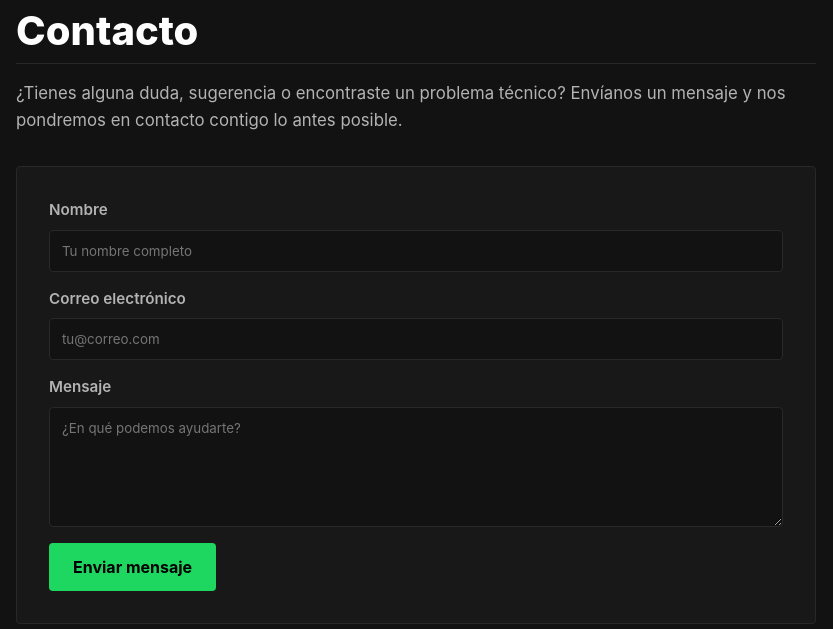
Test case: ContactPage › vacío muestra los errores y no envía nada
Click the button "Enviar mensaje".
click(133, 567)  # box [49,543,216,591]
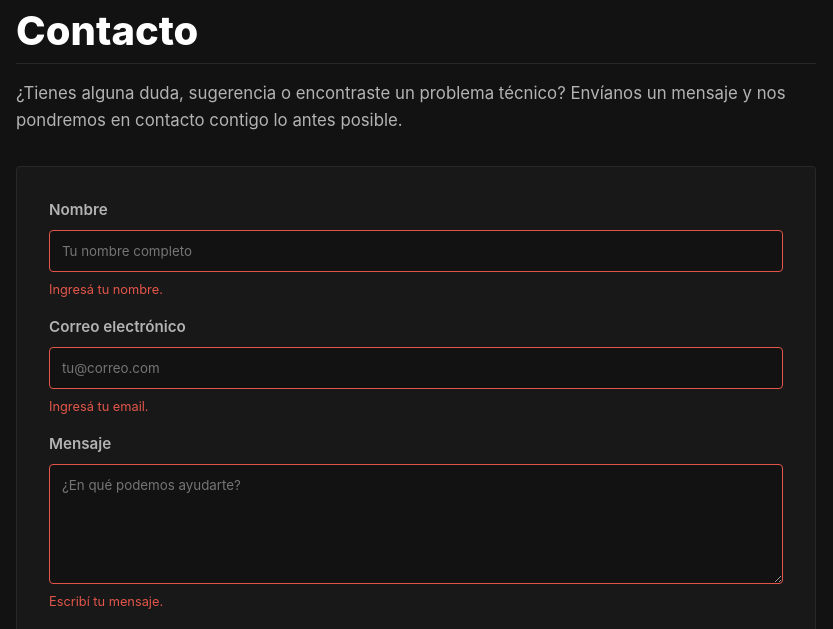
Expected: the text "Ingresá tu nombre." is shown, [49,282,163,296]
Expected: the text "Ingresá tu email." is shown, [49,399,148,414]
Expected: the text "Escribí tu mensaje." is shown, [49,594,163,609]
